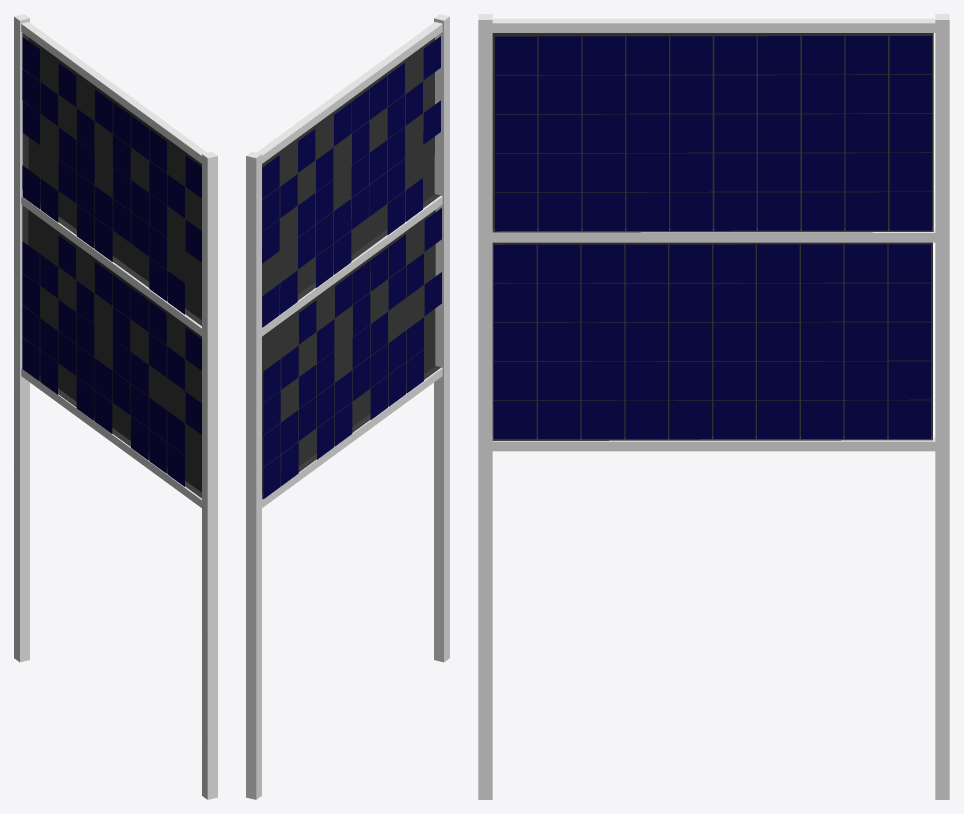
File: sun-panel-vertical.glb
The picture shows the model from 3 angles, left to right: view 1: azimuth 30°, elevation 25°; view 2: azimuth 150°, elevation 25°; view 3: azimuth 270°, elevation 25°; orthographic projection. The views are drawn at different scales.
Parts seen in each view (by area): view 1: 立方体.118, 立方体.004, 立方体.002, 立方体.001, 立方体.003, 立方体.005, 立方体; view 2: 立方体.004, 立方体.118, 立方体.001, 立方体.002, 立方体.003, 立方体.005, 立方体; view 3: 立方体.118, 立方体.004, 立方体.001, 立方体.002, 立方体.003, 立方体, 立方体.005.
Boxes of the visible parts, bbox=[...] form: 立方体.118: bbox=[22, 33, 201, 325]; 立方体.004: bbox=[22, 205, 201, 498]; 立方体.002: bbox=[202, 151, 217, 799]; 立方体.001: bbox=[14, 14, 29, 662]; 立方体.003: bbox=[21, 22, 206, 163]; 立方体.005: bbox=[21, 196, 201, 336]; 立方体: bbox=[21, 368, 201, 507]; 立方体.004: bbox=[262, 208, 441, 499]; 立方体.118: bbox=[262, 36, 440, 327]; 立方体.001: bbox=[246, 151, 261, 799]; 立方体.002: bbox=[434, 14, 449, 662]; 立方体.003: bbox=[257, 22, 442, 163]; 立方体.005: bbox=[262, 196, 442, 336]; 立方体: bbox=[262, 367, 442, 507]; 立方体.118: bbox=[492, 33, 933, 232]; 立方体.004: bbox=[492, 242, 932, 440]; 立方体.001: bbox=[935, 14, 949, 799]; 立方体.002: bbox=[478, 14, 492, 799]; 立方体.003: bbox=[492, 18, 935, 32]; 立方体: bbox=[492, 437, 935, 451]; 立方体.005: bbox=[492, 228, 935, 242].
Bounding box in the file's own units: 0.16 × 9.61 × 5.26.
